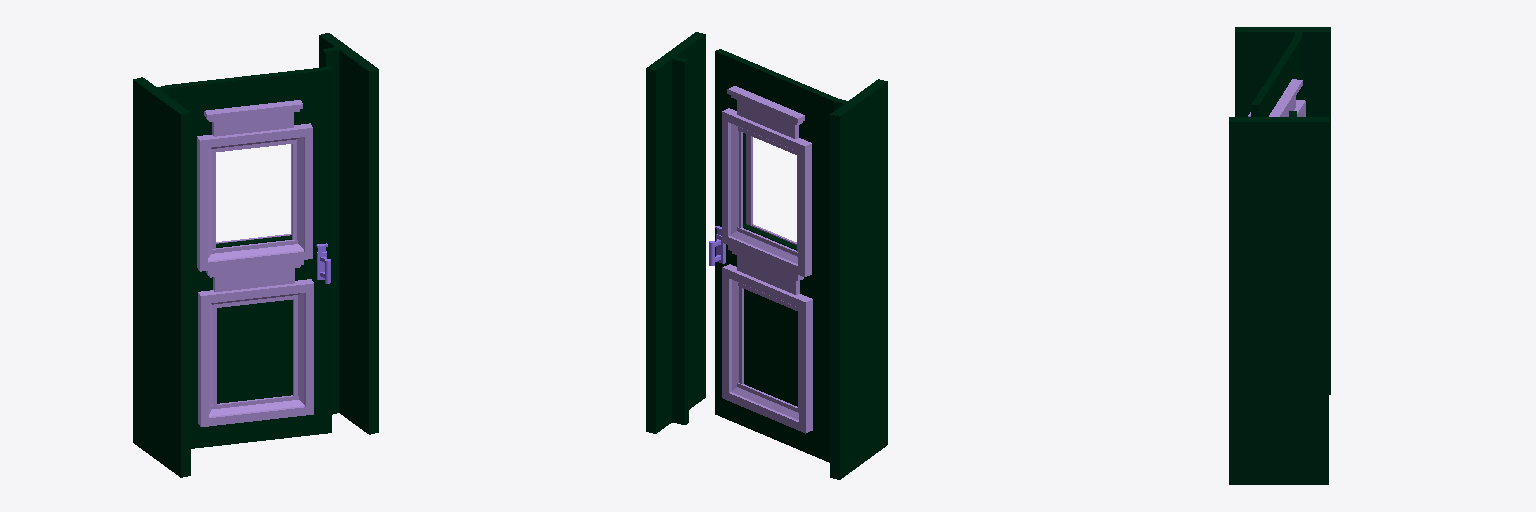
File: opendoor.obj
3 renders of one model, left to right at view 1: azimuth 30°, elevation 25°; view 2: azimuth 150°, elevation 25°; view 3: azimuth 270°, elevation 25°, orthographic.
Visible parts, largest first — view 1: wall_1_74, wall_4_92, wall_5_98, wall_6_104, wall_4_91, wall_5_97, front_46_46_158, front_46_46_216, front_20_20_132, front_20_20_190, front_6_6_118, front_6_6_176 (+8 smaller); view 2: wall_4_92, wall_1_73, wall_7_110, wall_5_98, wall_6_103, wall_4_91, wall_7_109, front_46_46_274, front_46_46_332, slope_25_25_311, right_12_12_298, front_14_14_300 (+10 smaller); view 3: wall_5_97, wall_7_109, wall_4_91, wall_1_73.
Part boxes in pixels (left/top/right/bottom): wall_1_74: left=170, top=70, right=331, bottom=448; wall_4_92: left=133, top=80, right=185, bottom=477; wall_5_98: left=339, top=50, right=373, bottom=434; wall_6_104: left=324, top=50, right=338, bottom=414; wall_4_91: left=186, top=112, right=190, bottom=476; wall_5_97: left=374, top=69, right=378, bottom=433; front_46_46_158: left=215, top=268, right=294, bottom=291; front_46_46_216: left=214, top=113, right=293, bottom=136; front_20_20_132: left=201, top=283, right=313, bottom=303; front_20_20_190: left=200, top=128, right=312, bottom=148; front_6_6_118: left=201, top=406, right=313, bottom=426; front_6_6_176: left=200, top=251, right=312, bottom=271; wall_4_92: left=835, top=82, right=887, bottom=479; wall_1_73: left=715, top=51, right=833, bottom=462; wall_7_110: left=651, top=59, right=671, bottom=433; wall_5_98: left=677, top=35, right=705, bottom=409; wall_6_103: left=672, top=59, right=686, bottom=424; wall_4_91: left=830, top=115, right=834, bottom=478; wall_7_109: left=646, top=69, right=650, bottom=432; front_46_46_274: left=737, top=256, right=795, bottom=294; front_46_46_332: left=737, top=100, right=794, bottom=138; slope_25_25_311: left=731, top=124, right=738, bottom=234; right_12_12_298: left=805, top=152, right=811, bottom=268; front_14_14_300: left=798, top=152, right=804, bottom=268; wall_5_97: left=1229, top=122, right=1296, bottom=484; wall_7_109: left=1296, top=122, right=1328, bottom=484; wall_4_91: left=1235, top=32, right=1330, bottom=394; wall_1_73: left=1255, top=38, right=1301, bottom=116.
Size of the model in its own units: 236 by 420 by 107.